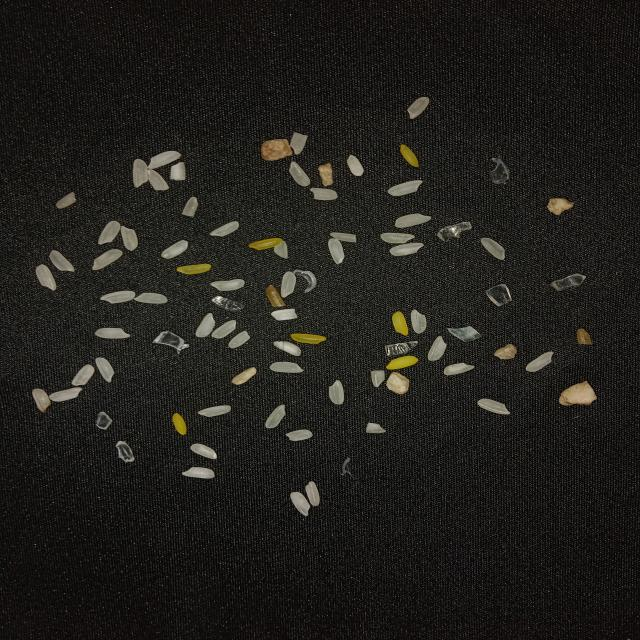Broken: (386, 355, 418, 370), (148, 169, 169, 191), (400, 144, 419, 168), (32, 388, 51, 412), (228, 330, 251, 349), (266, 285, 285, 307), (392, 311, 408, 336), (249, 238, 282, 250), (290, 333, 326, 344), (290, 132, 307, 155), (56, 192, 77, 209), (309, 188, 338, 200), (177, 264, 211, 274), (172, 413, 187, 435), (286, 429, 313, 441), (271, 308, 298, 320), (182, 197, 198, 217), (170, 162, 186, 181), (273, 240, 288, 259), (329, 232, 356, 242), (577, 328, 592, 345), (371, 370, 385, 387), (366, 423, 386, 433)
Full: (147, 150, 181, 170), (92, 249, 123, 270), (289, 161, 311, 187), (477, 398, 510, 415), (526, 352, 554, 372), (98, 220, 120, 245), (50, 250, 75, 272), (388, 180, 422, 196), (395, 213, 431, 228), (36, 264, 56, 291), (481, 238, 505, 260), (71, 364, 95, 386), (161, 240, 188, 259), (406, 97, 429, 119), (100, 290, 136, 304), (49, 387, 82, 402), (211, 320, 237, 339), (96, 357, 115, 383), (389, 242, 424, 256), (132, 158, 148, 188), (210, 221, 240, 237), (196, 313, 216, 337), (266, 404, 286, 428), (290, 492, 310, 516), (428, 336, 447, 361), (328, 238, 345, 265), (95, 327, 131, 339), (380, 232, 415, 244), (210, 279, 245, 291), (273, 341, 301, 356), (444, 362, 474, 376), (121, 226, 138, 250), (134, 292, 168, 304), (198, 405, 232, 417), (281, 271, 296, 298), (190, 444, 217, 459), (411, 309, 427, 334), (182, 467, 215, 479), (347, 154, 364, 177), (305, 481, 320, 506), (270, 362, 304, 373), (329, 380, 344, 404)
